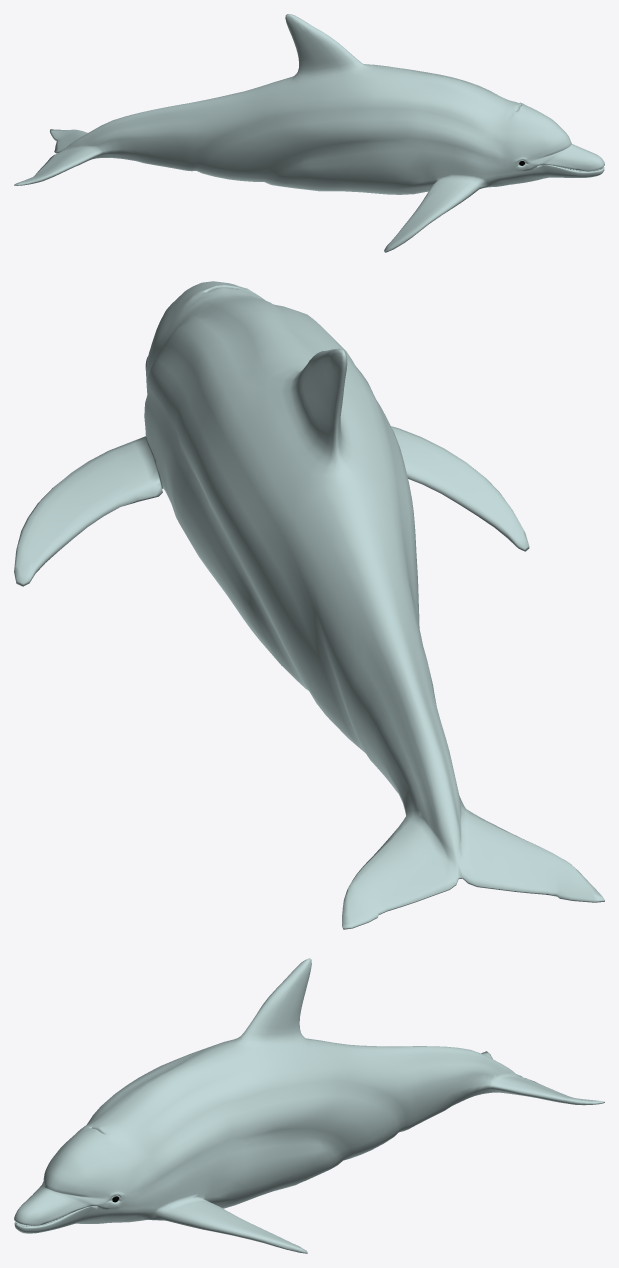
Rendered from dolphin_000013.obj.
The picture shows the model from 3 angles, top to bottom: view 1: azimuth 30°, elevation 25°; view 2: azimuth 150°, elevation 25°; view 3: azimuth 270°, elevation 25°; orthographic projection. The views are drawn at different scales.
Parts seen in each view (by area): view 1: Dolphin; view 2: Dolphin; view 3: Dolphin.
Part boxes in pixels (x1,y1,x2,y2): Dolphin: [14, 14, 604, 252]; Dolphin: [14, 281, 604, 929]; Dolphin: [14, 958, 604, 1253].
Size of the model in its own units: 5.52 by 2.28 by 5.6.
